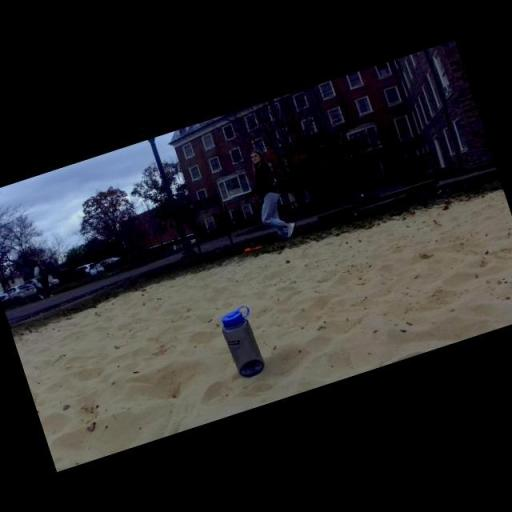bottle: (216, 304, 272, 383)
